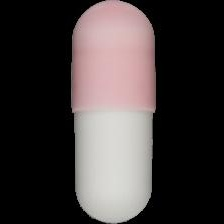0179-0034: (0, 0, 224, 224)
